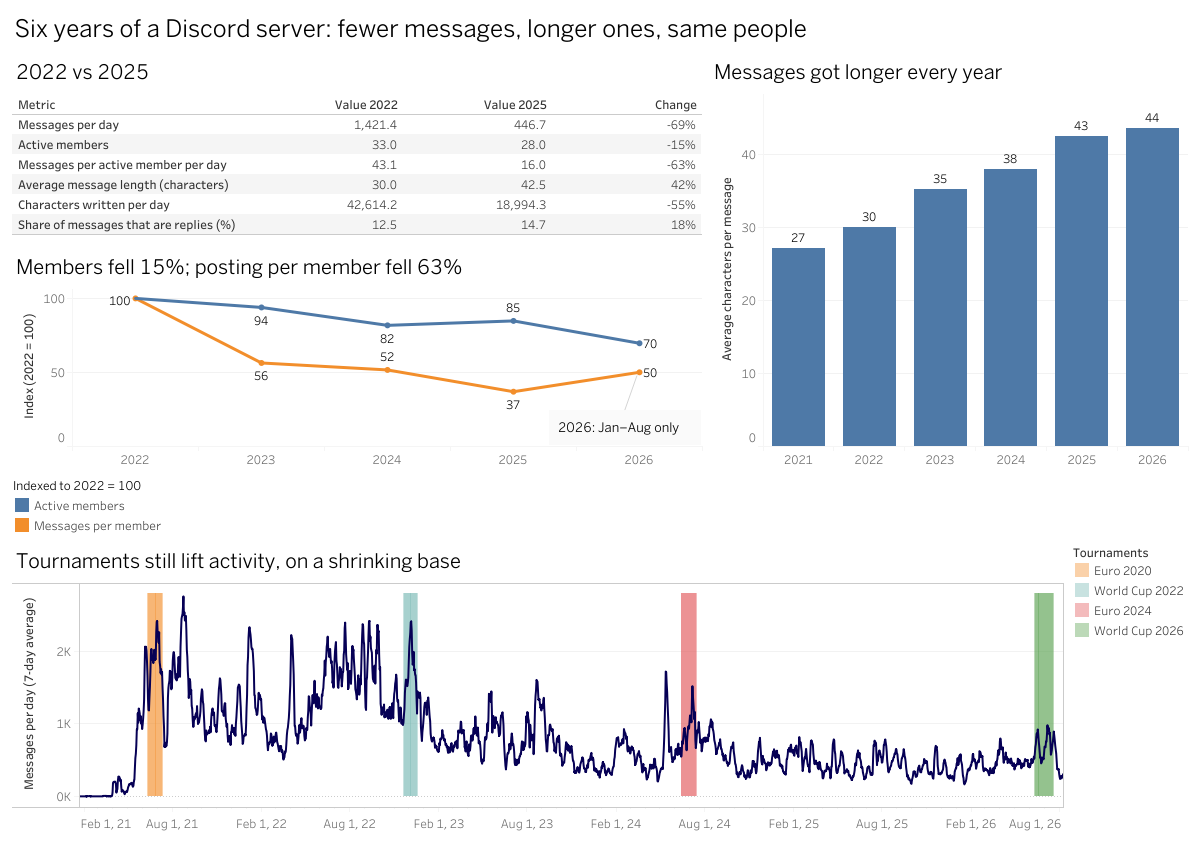

What the dashboard file says about the page in this screenshot:
{"tool":"tableau","page":{"name":"The decline","canvas":[1200,850],"ordinal":0},"visuals":[{"type":"title","box":[8,8,1184,39]},{"type":"worksheet","title":"Headline","mark":"Automatic","rows":["metric"],"box":[8,47,698,195]},{"type":"worksheet","title":"Message length","mark":"Bar","rows":["mean_characters_per_message"],"cols":["year"],"box":[706,47,486,424.2]},{"type":"worksheet","title":"Members vs posting","mark":"Line","cols":["year"],"box":[8,242,698,229.2]},{"type":"legend","title":"Members vs posting","param":"[federated.0qjj4en08axihi1bctz9919cmtvd].[:Measure Names]","box":[8,471.2,1184,65.8]},{"type":"worksheet","title":"Daily volume","mark":"Line","rows":["Calculation_1037443864694784","messages_7day_avg"],"cols":["day"],"box":[8,537,1060,305]},{"type":"legend","title":"Daily volume","param":"[federated.0cer39l1p5qq901gpczn51y693ye].[none:window:nk]","box":[1068,537,124,305]}]}

Visuals, with their boxes in screenshot pixels (x1, y1, x2, y2), scaled from the page's 1200x850 canvas onto the 1199x849 screenshot:
title: select_region(8, 8, 1191, 47)
"Headline" worksheet: select_region(8, 47, 705, 242)
"Message length" worksheet (Bar marks): select_region(705, 47, 1191, 471)
"Members vs posting" worksheet (Line marks): select_region(8, 242, 705, 471)
"Members vs posting" legend: select_region(8, 471, 1191, 536)
"Daily volume" worksheet (Line marks): select_region(8, 536, 1067, 841)
"Daily volume" legend: select_region(1067, 536, 1191, 841)
